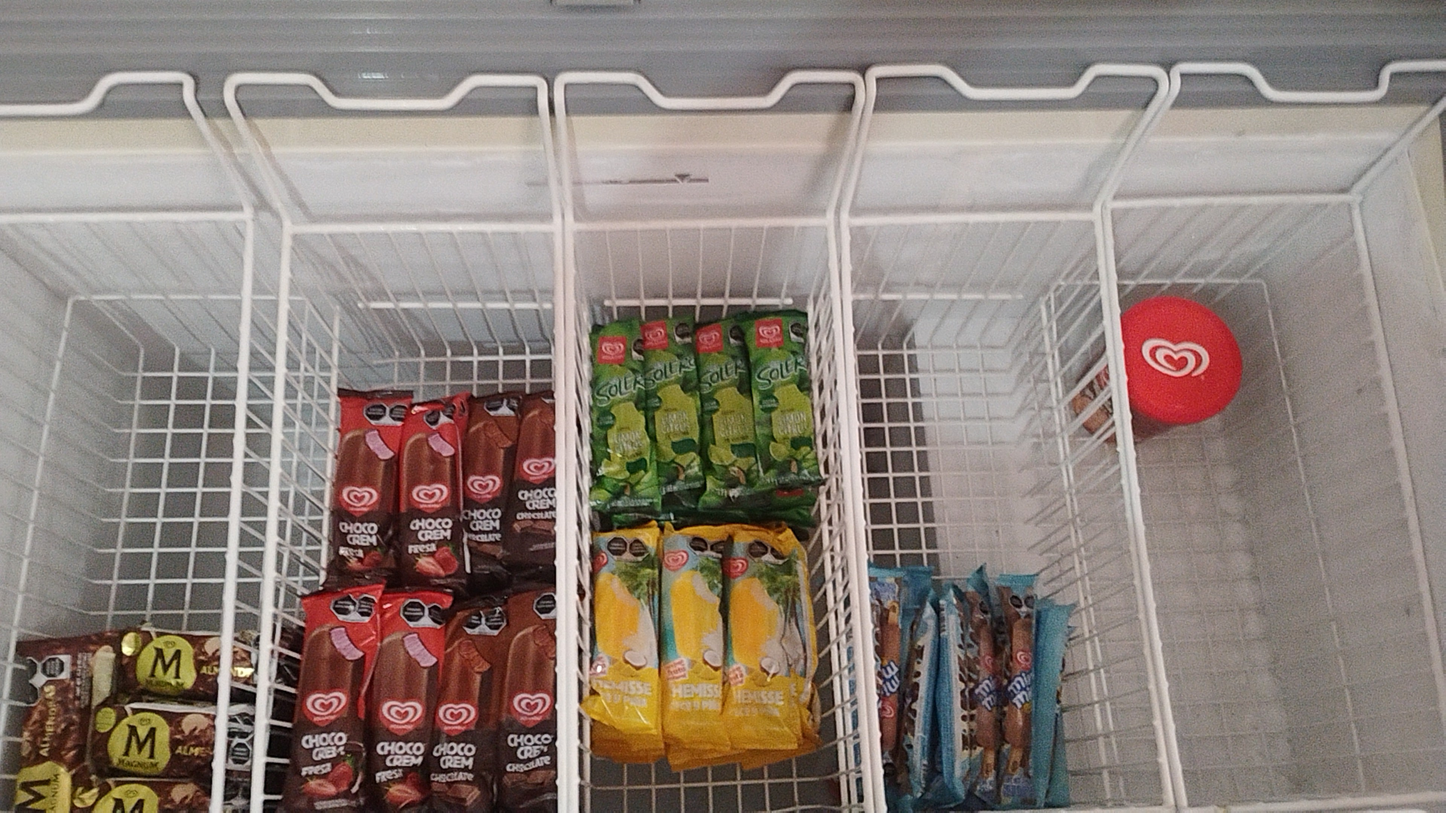rejilla: (1105, 212, 1186, 806), (1353, 205, 1445, 707), (1096, 212, 1173, 804), (829, 226, 873, 813), (842, 226, 884, 811), (212, 221, 253, 812), (252, 232, 289, 812), (556, 232, 566, 813), (567, 232, 576, 812), (567, 220, 831, 230), (843, 213, 1093, 223), (1112, 196, 1354, 206), (286, 225, 559, 230), (2, 215, 252, 220)
